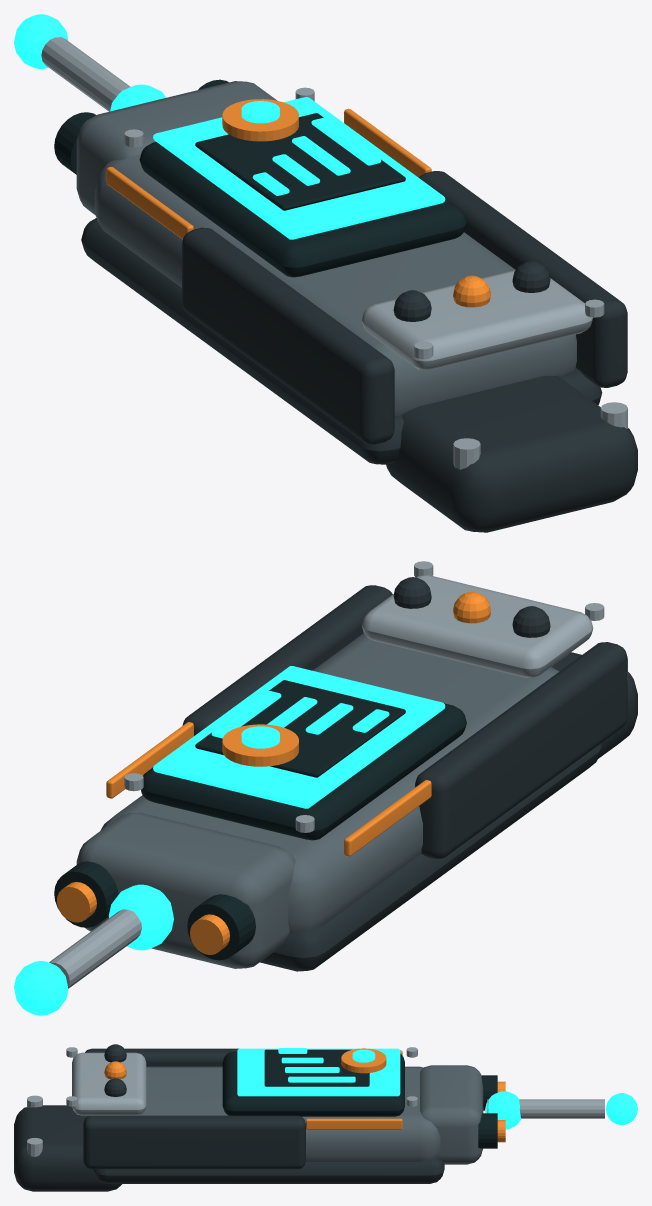
The model's file is gilka-v37-preview.glb.
3 views of the same model, one above another, from view 1: azimuth 30°, elevation 25°; view 2: azimuth 150°, elevation 25°; view 3: azimuth 270°, elevation 25° (orthographic). The views are drawn at different scales.
Visible parts, largest first — view 1: SM_GZ_V37_ArtifactDetector; view 2: SM_GZ_V37_ArtifactDetector; view 3: SM_GZ_V37_ArtifactDetector.
Boxes of the visible parts, x1=… form: SM_GZ_V37_ArtifactDetector: x1=14, y1=14, x2=637, y2=532; SM_GZ_V37_ArtifactDetector: x1=14, y1=561, x2=637, y2=1015; SM_GZ_V37_ArtifactDetector: x1=14, y1=1044, x2=637, y2=1191.
Size of the model in its own units: 0.112 by 0.0805 by 0.387.
